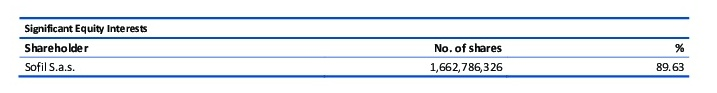table: (0, 0, 717, 93)
